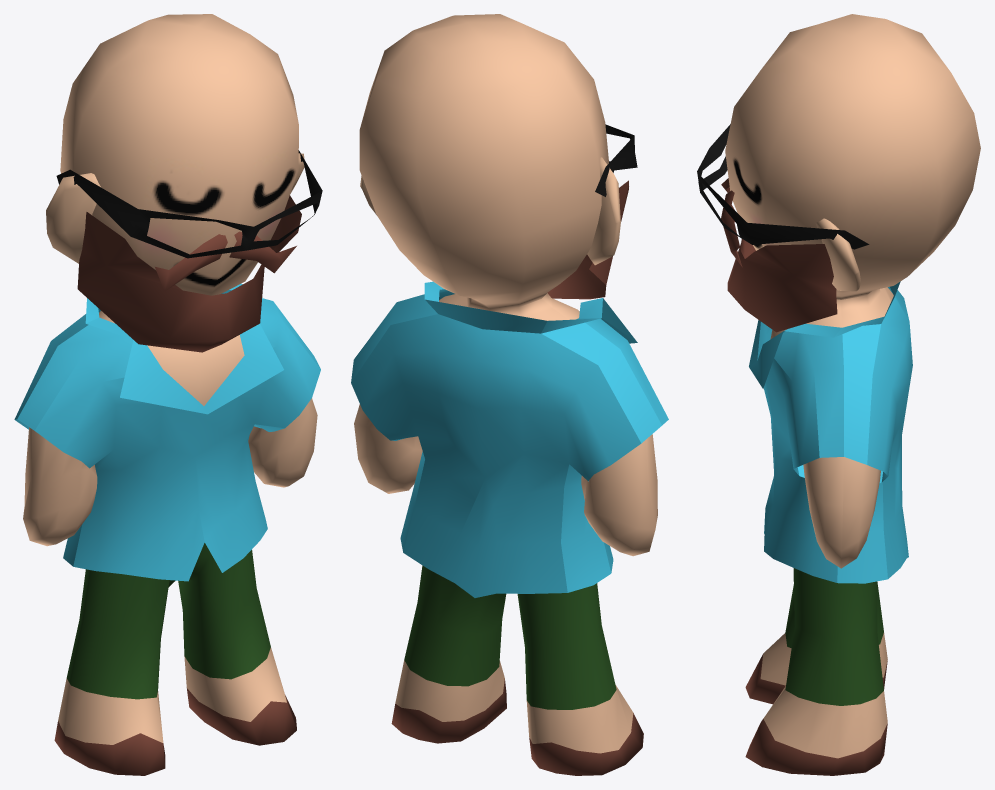
The model's file is JefeVoluntariado.fbx.
3 views of the same model, side by side, from view 1: azimuth 30°, elevation 25°; view 2: azimuth 150°, elevation 25°; view 3: azimuth 270°, elevation 25° (orthographic). The views are drawn at different scales.
Parts seen in each view (by area): view 1: Cube, Cube.005, Cube.004, Cube.006, Cube.002, Cube.003; view 2: Cube, Cube.005, Cube.002, Cube.004, Cube.006; view 3: Cube, Cube.005, Cube.004, Cube.006, Cube.002, Cube.003.
Boxes of the visible parts, x1=… form: Cube: x1=23, y1=14, x2=317, y2=775; Cube.005: x1=14, y1=283, x2=320, y2=581; Cube.004: x1=77, y1=195, x2=301, y2=352; Cube.006: x1=56, y1=150, x2=322, y2=258; Cube.002: x1=46, y1=153, x2=304, y2=263; Cube.003: x1=155, y1=231, x2=296, y2=291; Cube: x1=354, y1=14, x2=657, y2=775; Cube.005: x1=351, y1=281, x2=668, y2=597; Cube.002: x1=360, y1=157, x2=620, y2=265; Cube.004: x1=547, y1=180, x2=628, y2=299; Cube.006: x1=595, y1=124, x2=637, y2=196; Cube: x1=725, y1=14, x2=980, y2=775; Cube.005: x1=749, y1=281, x2=912, y2=583; Cube.004: x1=727, y1=239, x2=837, y2=332; Cube.006: x1=697, y1=124, x2=869, y2=249; Cube.002: x1=815, y1=218, x2=860, y2=291; Cube.003: x1=721, y1=178, x2=742, y2=267.
Bounding box in the file's own units: 96.47 × 214 × 78.05.
